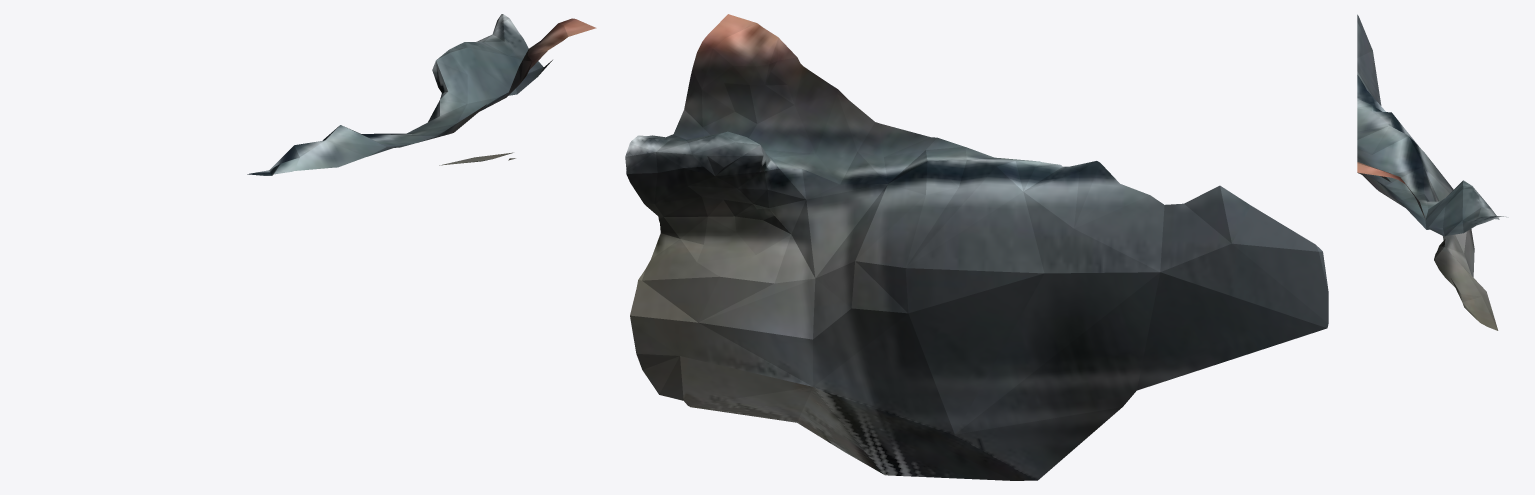
3 renders of one model, left to right at view 1: azimuth 30°, elevation 25°; view 2: azimuth 150°, elevation 25°; view 3: azimuth 270°, elevation 25°, orthographic. The views are drawn at different scales.
Bounding box in the file's own units: 0.6511 × 0.4381 × 0.1931.
Materials: 1 (1 with a texture image).
